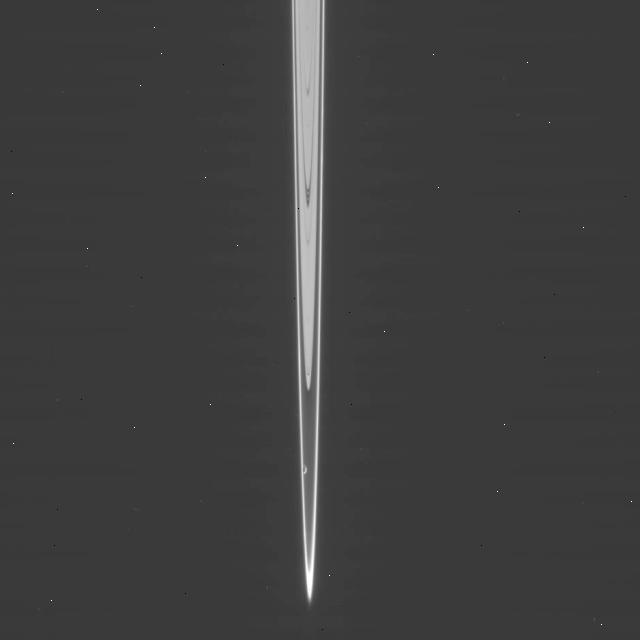Saturn: (290, 1, 324, 606)
